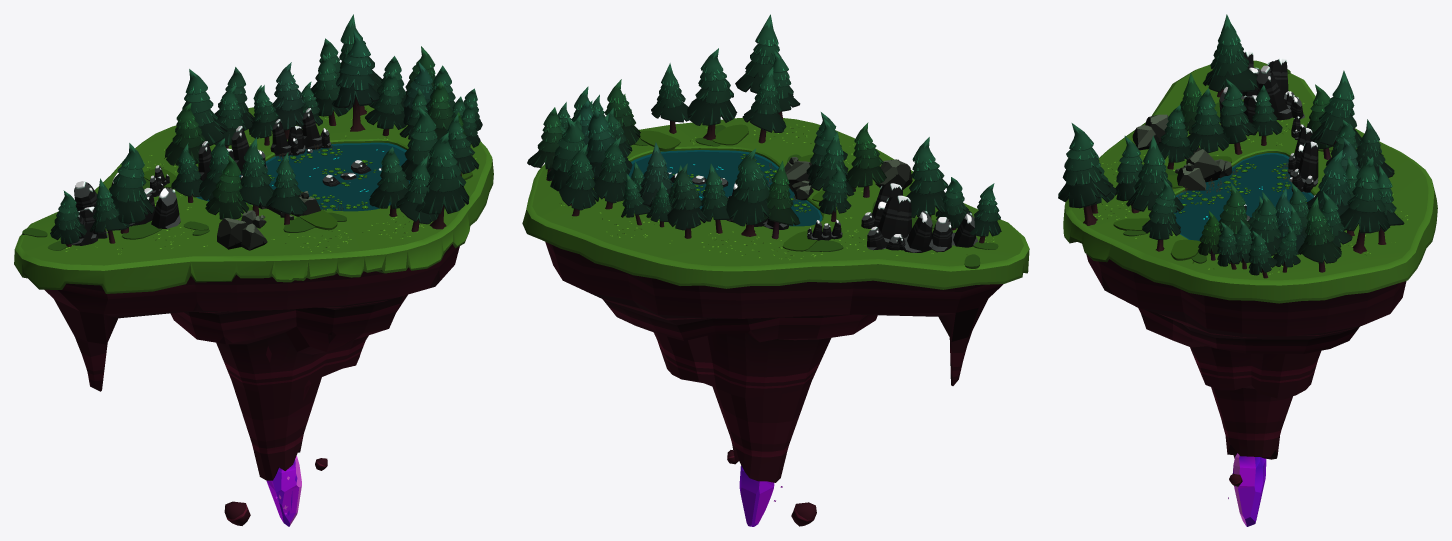
File: Island_Small_Water.fbx
3 renders of one model, left to right at view 1: azimuth 30°, elevation 25°; view 2: azimuth 150°, elevation 25°; view 3: azimuth 270°, elevation 25°, orthographic. The views are drawn at different scales.
Parts seen in each view (by area): view 1: pCylinder214; view 2: pCylinder214; view 3: pCylinder214.
Part boxes in pixels (bbox=[...]): pCylinder214: bbox=[14, 14, 493, 526]; pCylinder214: bbox=[522, 14, 1029, 526]; pCylinder214: bbox=[1058, 14, 1437, 526].
Bounding box in the file's own units: 96.64 × 86.65 × 67.99.
